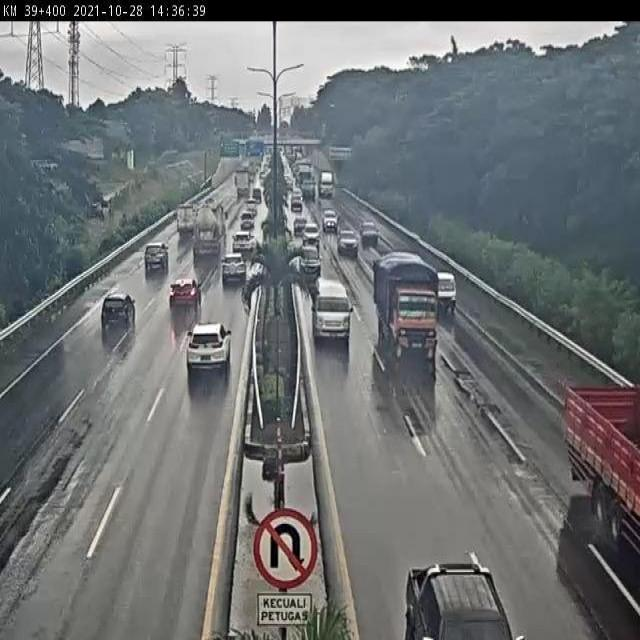truck-m-: (371, 244, 435, 349)
truck-xl-: (193, 203, 232, 261)
